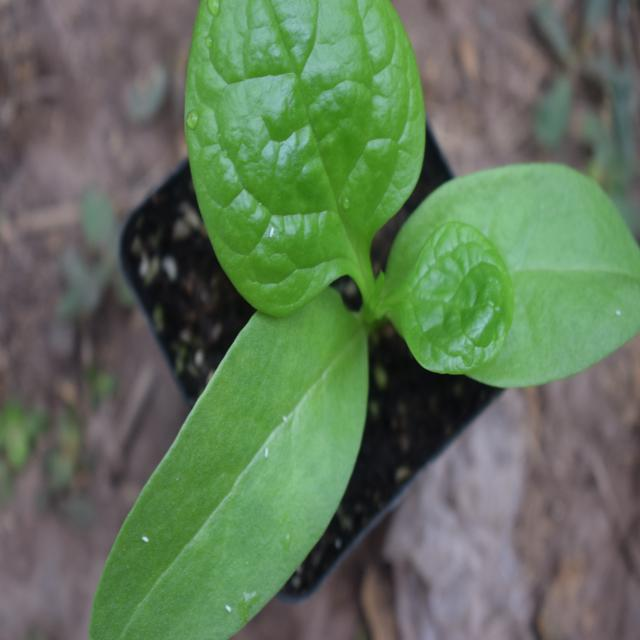Ceylon spinach: (121, 0, 606, 628)
